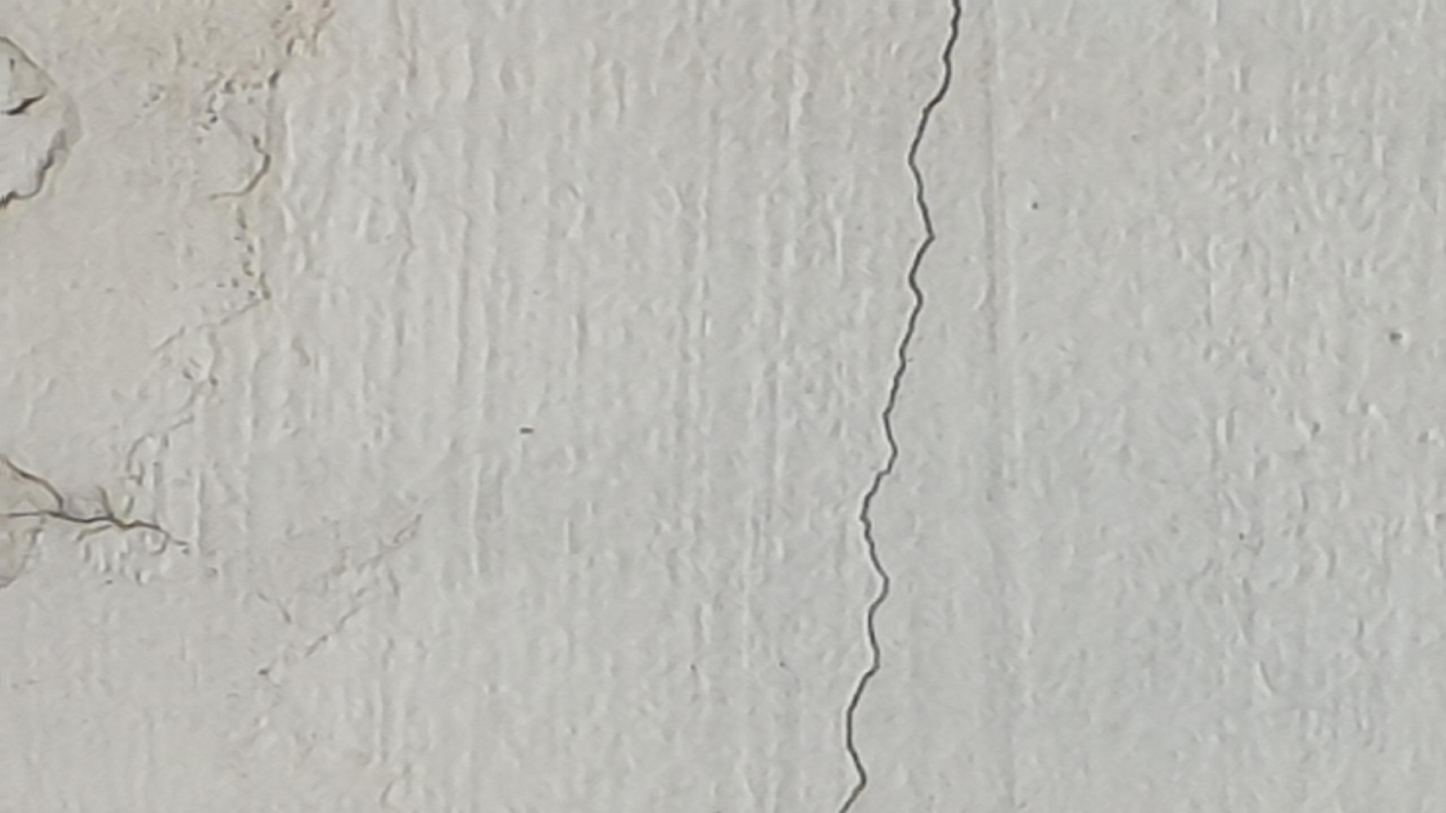crack: (836, 0, 962, 812)
